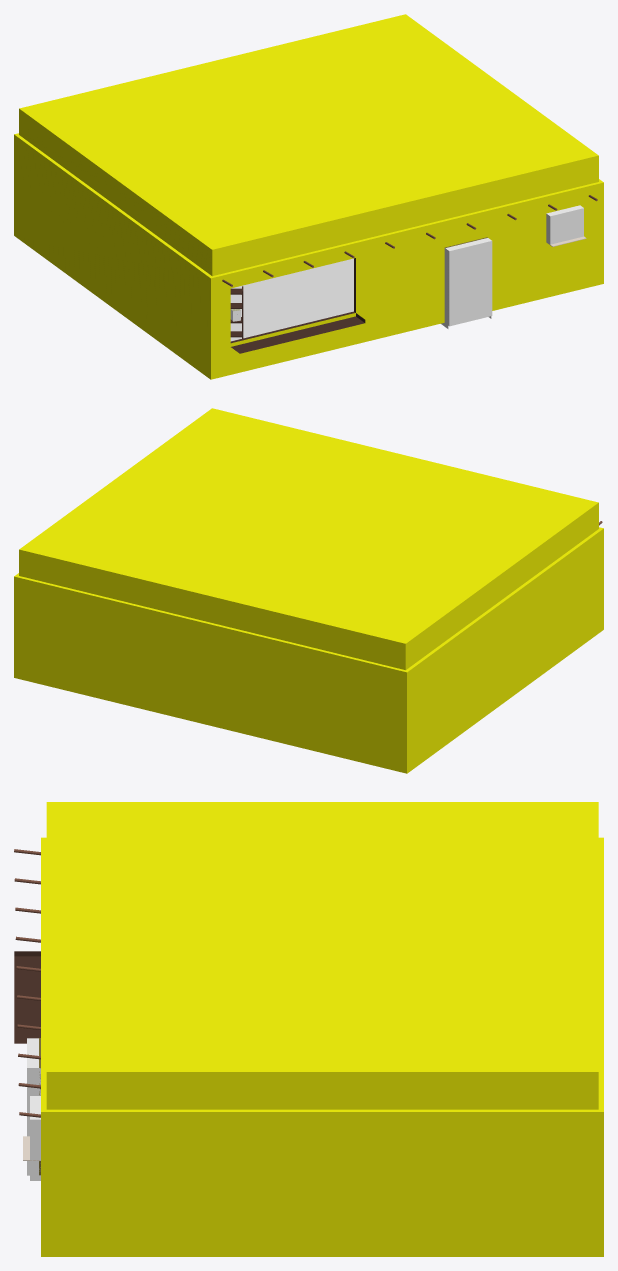
The model's file is remake1 (3).fbx.
The picture shows the model from 3 angles, top to bottom: view 1: azimuth 30°, elevation 25°; view 2: azimuth 150°, elevation 25°; view 3: azimuth 270°, elevation 25°; orthographic projection. The views are drawn at different scales.
Visible parts, largest first — view 1: Room, Floor, CTRL_Hole, Room.001, CTRL_Hole.001; view 2: Room; view 3: Room, Room.001, Cylinder, CTRL_Hole, CTRL_Hole.001.
Part boxes in pixels (x1,y1,x2,y2): Room: [14, 14, 603, 379]; Floor: [230, 258, 353, 341]; CTRL_Hole: [444, 238, 492, 326]; Room.001: [230, 258, 365, 353]; CTRL_Hole.001: [546, 205, 583, 244]; Room: [14, 408, 603, 773]; Room: [41, 802, 603, 1256]; Room.001: [14, 951, 40, 1043]; Cylinder: [14, 849, 40, 1117]; CTRL_Hole: [27, 1038, 40, 1175]; CTRL_Hole.001: [30, 1096, 40, 1160].
Bounding box in the file's own units: 1389 × 444 × 1262.
